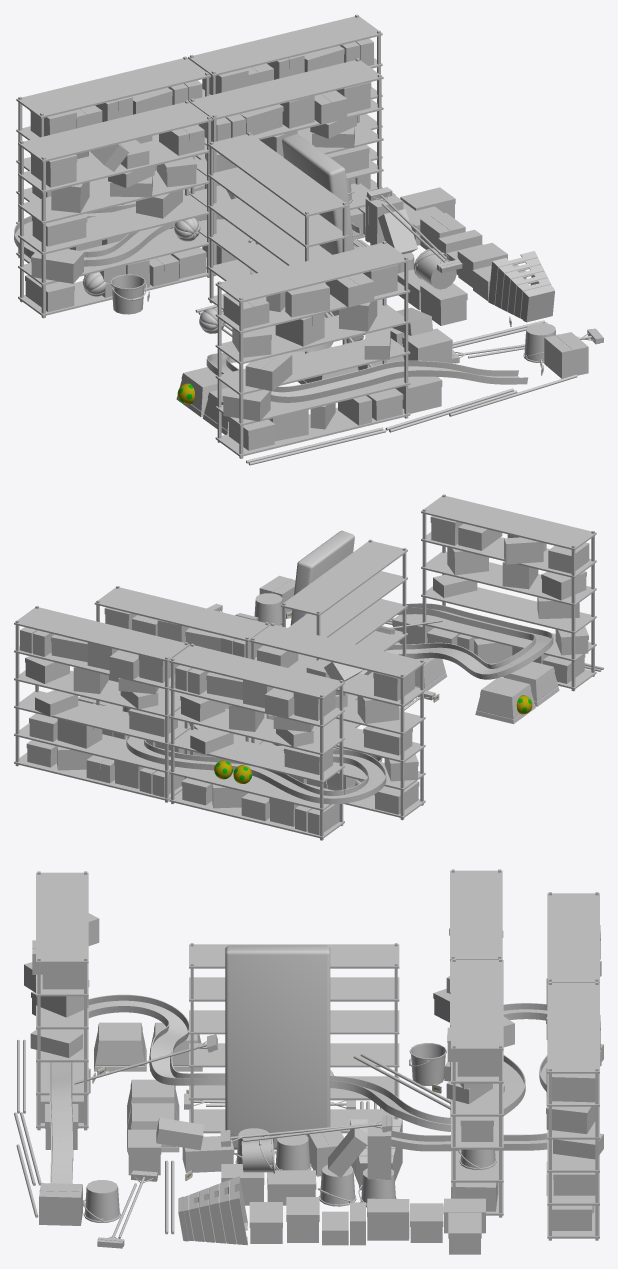
The model's file is track 4.fbx.
The picture shows the model from 3 angles, top to bottom: view 1: azimuth 30°, elevation 25°; view 2: azimuth 150°, elevation 25°; view 3: azimuth 270°, elevation 25°; orthographic projection. The views are drawn at different scales.
Visible parts, largest first — view 1: rak.004, rak.003, rak.005, rak.006, jalan, rak.001, rak.007, Cube.004, matras.001, box 5.012, box 2.006, box 3.002 (+52 smaller); view 2: rak.001, rak.003, rak.007, rak.004, rak.005, jalan, rak.006, matras.001, Cube.008, Cube.007, box 7.020, box 3.019 (+54 smaller); view 3: matras.001, rak.005, jalan, rak.006, rak.003, rak.007, rak.004, rak.001, Cube.004, Cube.007, box 5.012, box 5.005 (+42 smaller).
Boxes of the visible parts, x1,y1,x2,y2 form: rak.004: (18, 100, 212, 318); rak.003: (215, 241, 410, 458); rak.005: (208, 132, 348, 356); rak.006: (189, 58, 383, 276); jalan: (14, 183, 528, 402); rak.001: (16, 56, 210, 263); rak.007: (188, 14, 382, 220); Cube.004: (488, 251, 554, 322); matras.001: (282, 134, 363, 343); box 5.012: (544, 332, 588, 378); box 2.006: (420, 283, 467, 325); box 3.002: (31, 249, 84, 283); rak.001: (169, 643, 344, 840); rak.003: (421, 494, 596, 691); rak.007: (14, 606, 189, 802); rak.004: (249, 623, 425, 820); rak.005: (281, 539, 407, 727); jalan: (126, 603, 553, 804); rak.006: (94, 586, 270, 754); matras.001: (290, 530, 354, 625); Cube.008: (475, 677, 535, 724); Cube.007: (503, 661, 559, 706); box 7.020: (504, 537, 543, 564); box 3.019: (363, 726, 412, 755); matras.001: (225, 945, 330, 1149); rak.005: (189, 943, 399, 1133); jalan: (49, 994, 547, 1183); rak.006: (451, 958, 503, 1217); rak.003: (36, 871, 88, 1130); rak.007: (547, 981, 599, 1240); rak.004: (450, 869, 502, 1117); rak.001: (547, 892, 599, 982); Cube.004: (178, 1176, 247, 1245); Cube.007: (94, 1022, 146, 1071); box 5.012: (39, 1183, 82, 1225); box 5.005: (367, 1198, 409, 1240).
Size of the model in its own units: 487 by 202 by 561.
